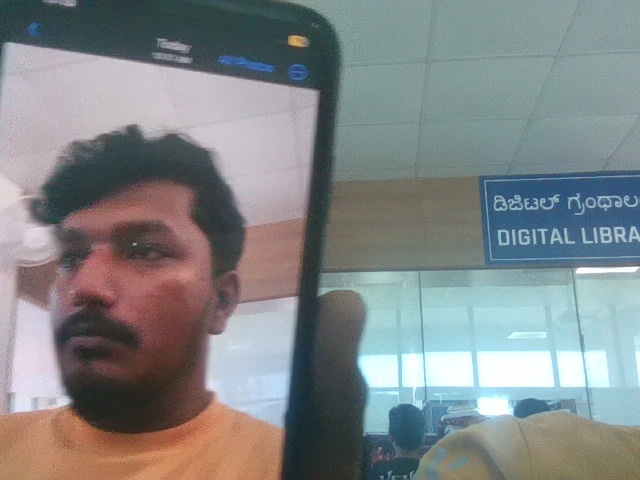fake: (19, 101, 243, 418)
